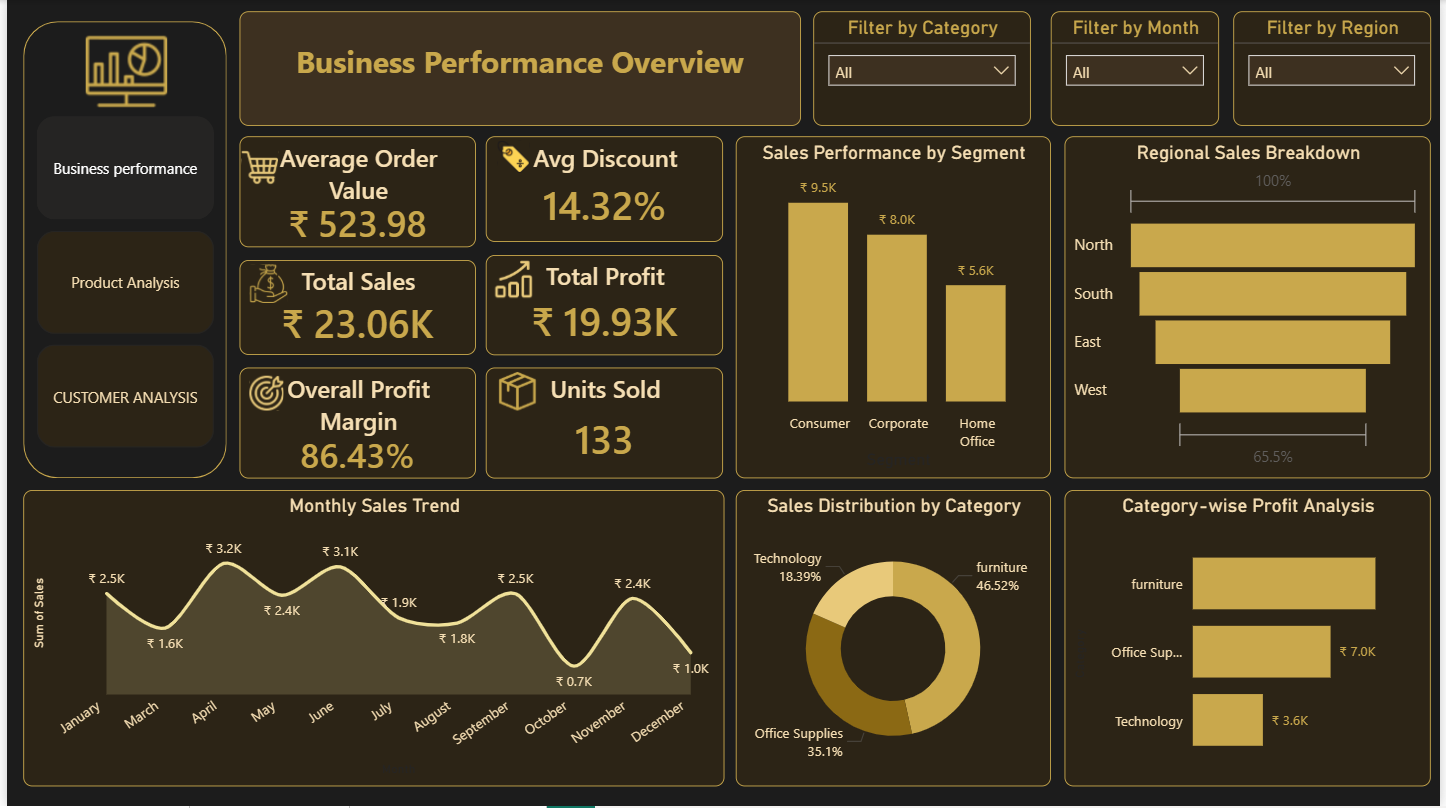

This screenshot's page, from the dashboard's own definition file:
{"tool":"powerbi","page":{"name":"Business performance","canvas":[1280,720],"ordinal":0},"visuals":[{"type":"card","title":"Total Profit","fields":{"Values":["Orders.Profit"]},"box":[427.7,227.8,212.2,89.3],"z":0},{"type":"card","title":"Overall Profit Margin","fields":{"Values":["Orders.Profit Margin"]},"box":[207.7,328.3,211,99.4],"z":1000},{"type":"card","title":"Units Sold","fields":{"Values":["Orders.Total Quantity"]},"box":[427.7,328.3,212.2,99.4],"z":2000},{"type":"lineChart","title":"Monthly Sales Trend","fields":{"Category":["Calendar.Date.Variation.Date Hierarchy.Month"],"Y":["Sum(Orders.Sales)"]},"box":[14.5,437.7,626.4,264.6],"z":3000},{"type":"columnChart","title":"Sales Performance by Segment","fields":{"Category":["Customers.Segment"],"Y":["Sum(Orders.Sales)"]},"box":[651,121.7,281.4,306],"z":4000},{"type":"barChart","title":"Category-wise Profit Analysis","fields":{"Category":["Orders.Category"],"Y":["Orders.Profit"]},"box":[944.7,437.7,327.2,264.6],"z":5000},{"type":"slicer","title":"Filter by Region","fields":{"Values":["Orders.Region"]},"box":[1095.4,10,176.4,102.7],"z":6000},{"type":"funnel","title":"Regional Sales Breakdown","fields":{"Category":["Orders.Region"],"Y":["Sum(Orders.Sales)"]},"box":[944.7,121.7,327.2,306],"z":7000},{"type":"donutChart","title":"Sales Distribution by Category","fields":{"Category":["Orders.Category"],"Y":["Sum(Orders.Sales)"]},"box":[651,437.7,281.4,264.6],"z":8000},{"type":"slicer","title":"Filter by Category","fields":{"Values":["Orders.Category"]},"box":[720.2,10,194.3,102.7],"z":9000},{"type":"textbox","title":"Business Performance Overview","box":[207.7,10,501.4,102.7],"z":10000},{"type":"shape","box":[14.4,18.8,181.8,408.3],"z":11000},{"type":"card","title":"Total Sales","fields":{"Values":["Orders.Total Sales"]},"box":[207.3,232.5,210.9,85.1],"z":12000},{"type":"actionButton","title":"asfas","box":[27.4,23.1,157.3,80.8],"z":13000},{"type":"actionButton","title":"asfas","box":[196.5,232.3,73.7,42.4],"z":14000},{"type":"actionButton","title":"asfas","box":[409.9,226.5,85.1,45.5],"z":15000},{"type":"actionButton","title":"asfas","box":[207.7,331.6,48,39.1],"z":16000},{"type":"pageNavigator","box":[26.8,103.8,158.6,297],"z":17000},{"type":"slicer","title":"Filter by Month","fields":{"Values":["Orders.Order_Date.Variation.Date Hierarchy.Month"]},"box":[932.4,10,150.7,102.7],"z":18000},{"type":"card","title":"Average Order Value","fields":{"Values":["Orders.Avg Sales per Customer"]},"box":[207.3,122.2,210.9,99.5],"z":19000},{"type":"card","title":"Avg Discount","fields":{"Values":["Orders.Avg Discount"]},"box":[427.9,122.2,212.1,94.7],"z":20000},{"type":"actionButton","title":"asfas","box":[418.7,328.3,73.7,42.4],"z":21000},{"type":"actionButton","title":"asfas","box":[410.9,121.7,82.6,36.8],"z":22000},{"type":"actionButton","title":"asfas","box":[204.9,128.2,40.7,41.9],"z":23000}]}

Visuals, with their boxes in screenshot pixels (x1, y1, x2, y2), scaled from the page's 1280x720 canvas onto the 1446x808 screenshot:
"Total Profit" card: [483,256,723,356]
"Overall Profit Margin" card: [235,368,473,480]
"Units Sold" card: [483,368,723,480]
"Monthly Sales Trend" lineChart: [16,491,724,788]
"Sales Performance by Segment" columnChart: [735,137,1053,480]
"Category-wise Profit Analysis" barChart: [1067,491,1437,788]
"Filter by Region" slicer: [1237,11,1437,126]
"Regional Sales Breakdown" funnel: [1067,137,1437,480]
"Sales Distribution by Category" donutChart: [735,491,1053,788]
"Filter by Category" slicer: [814,11,1033,126]
"Business Performance Overview" textbox: [235,11,801,126]
shape: [16,21,222,479]
"Total Sales" card: [234,261,472,356]
"asfas" actionButton: [31,26,209,117]
"asfas" actionButton: [222,261,305,308]
"asfas" actionButton: [463,254,559,305]
"asfas" actionButton: [235,372,289,416]
pageNavigator: [30,116,209,450]
"Filter by Month" slicer: [1053,11,1224,126]
"Average Order Value" card: [234,137,472,249]
"Avg Discount" card: [483,137,723,243]
"asfas" actionButton: [473,368,556,416]
"asfas" actionButton: [464,137,558,178]
"asfas" actionButton: [231,144,277,191]
